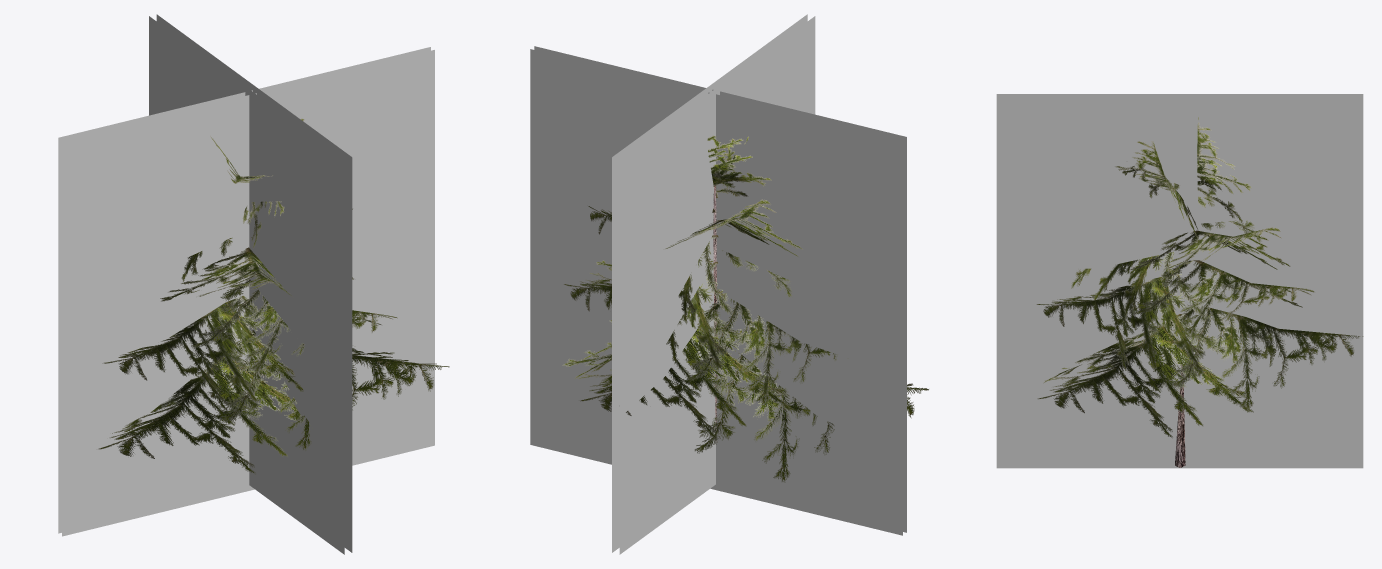
Rendered from Conifer7.fbx.
The picture shows the model from 3 angles, left to right: view 1: azimuth 30°, elevation 25°; view 2: azimuth 150°, elevation 25°; view 3: azimuth 270°, elevation 25°; orthographic projection. The views are drawn at different scales.
Visible parts, largest first — view 1: Billboard-Conifer7, Tree-Conifer7_LOD0; view 2: Billboard-Conifer7, Tree-Conifer7_LOD0; view 3: Billboard-Conifer7, Tree-Conifer7_LOD0.
Boxes of the visible parts, x1,y1,x2,y2 form: Billboard-Conifer7: (58, 14, 434, 554); Tree-Conifer7_LOD0: (98, 118, 449, 474); Billboard-Conifer7: (530, 14, 906, 554); Tree-Conifer7_LOD0: (562, 135, 928, 482); Billboard-Conifer7: (996, 94, 1363, 468); Tree-Conifer7_LOD0: (1036, 117, 1363, 467).
Size of what is drawn, in the model's own units: 158 by 148 by 143.
